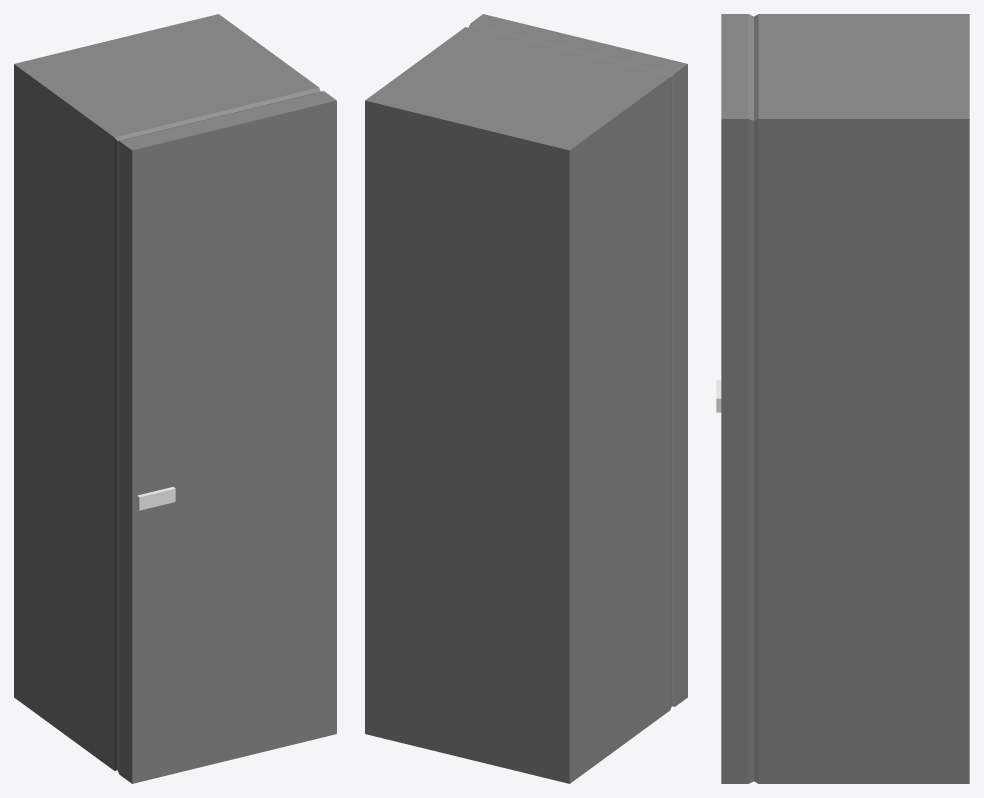
The model's file is Fridge.fbx.
3 views of the same model, side by side, from view 1: azimuth 30°, elevation 25°; view 2: azimuth 150°, elevation 25°; view 3: azimuth 270°, elevation 25° (orthographic). The views are drawn at different scales.
Visible parts, largest first — view 1: Fridge; view 2: Fridge; view 3: Fridge.
Boxes of the visible parts, x1=… form: Fridge: x1=14, y1=14, x2=336, y2=783; Fridge: x1=365, y1=14, x2=687, y2=783; Fridge: x1=716, y1=14, x2=969, y2=783.
Size of the model in its own units: 143 by 423 by 146.
